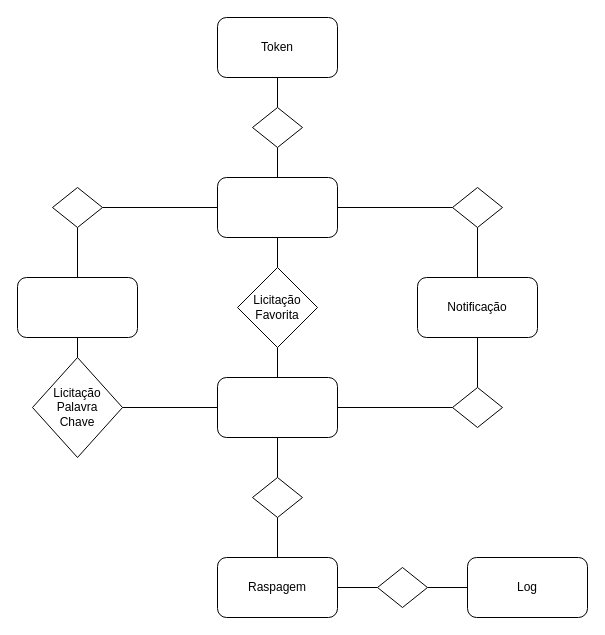
The diagram is 605 pixels wide and 635 high, and some of its shapes have lost their labels. Here are the shapes that lost their labels. From the top down, the centre of each, then its label:
At (277,207): "Usuário".
At (77,307): "Palavra Chave".
At (277,407): "Licitação".
